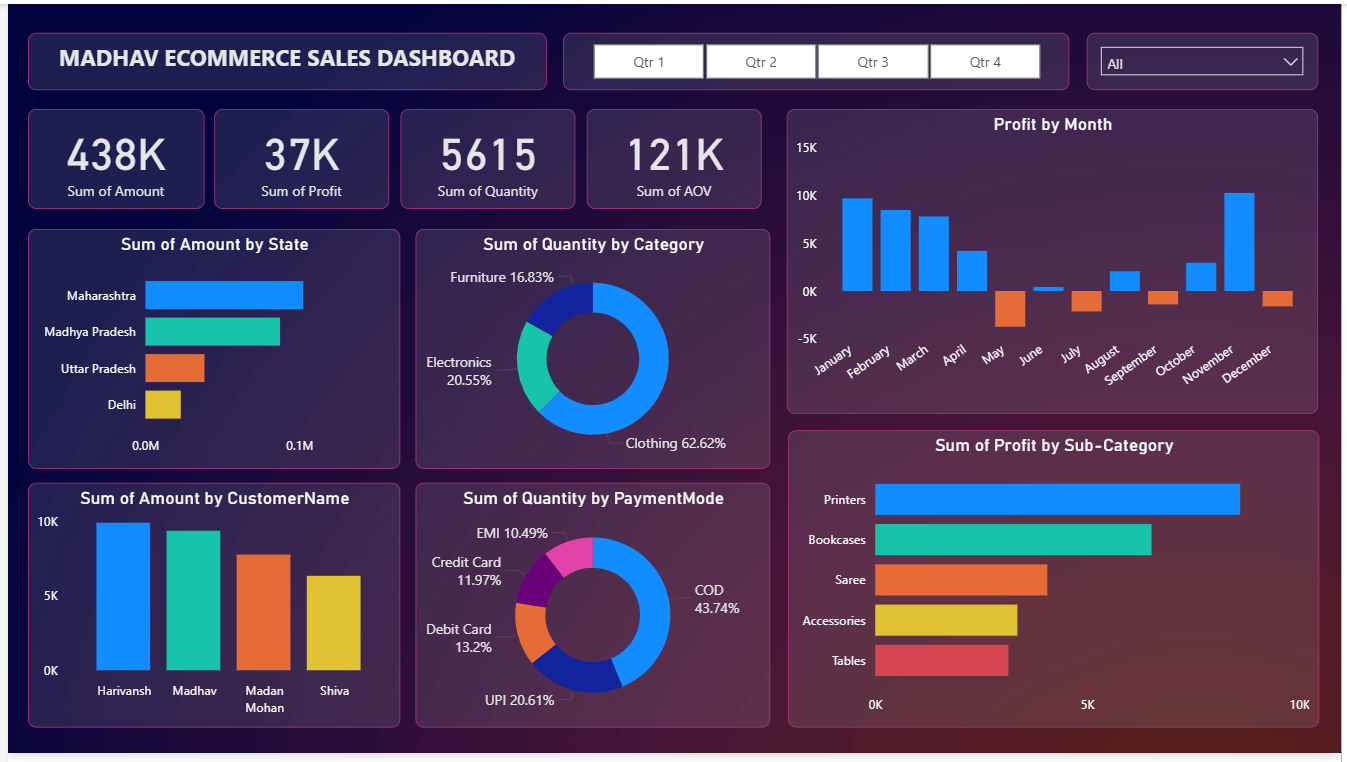

This screenshot's page, from the dashboard's own definition file:
{"tool":"powerbi","page":{"name":"Page 1","canvas":[1280,720],"ordinal":0},"visuals":[{"type":"textbox","box":[19.2,27.6,498.3,55.2],"z":0},{"type":"columnChart","title":"Profit by Month","fields":{"Y":["Sum(Details.Profit)"],"Category":["Orders.Order Date.Variation.Date Hierarchy.Month"]},"box":[748.1,100.9,510.3,293],"z":1000},{"type":"barChart","fields":{"Category":["Details.Sub-Category"],"Y":["Sum(Details.Profit)"]},"box":[749.3,409.5,510.3,285.8],"z":2000},{"type":"donutChart","fields":{"Category":["Details.Category"],"Y":["Sum(Details.Quantity)"]},"box":[391.4,216.1,341,230.5],"z":3000},{"type":"donutChart","fields":{"Category":["Details.PaymentMode"],"Y":["Sum(Details.Quantity)"]},"box":[391.4,459.9,341,235.3],"z":4000},{"type":"card","fields":{"Values":["Sum(Details.Amount)"]},"box":[19.2,100.9,169.3,96.1],"z":5000},{"type":"card","fields":{"Values":["Sum(Details.Quantity)"]},"box":[377,100.9,168.1,96.1],"z":6000},{"type":"card","fields":{"Values":["Sum(Details.Profit)"]},"box":[198.1,100.9,168.1,96.1],"z":7000},{"type":"card","fields":{"Values":["Sum(Details.AOV)"]},"box":[555.9,100.9,168.1,96.1],"z":8000},{"type":"barChart","fields":{"Category":["Orders.State"],"Y":["Sum(Details.Amount)"]},"box":[19.2,216.1,357.8,230.5],"z":9000},{"type":"columnChart","fields":{"Category":["Orders.CustomerName"],"Y":["Sum(Details.Amount)"]},"box":[19.2,459.9,357.8,235.3],"z":10000},{"type":"slicer","fields":{"Values":["Orders.Order Date.Variation.Date Hierarchy.Quarter"]},"box":[533.1,27.6,486.3,55.2],"z":11000},{"type":"slicer","fields":{"Values":["Orders.State"]},"box":[1036.2,27.6,222.1,55.2],"z":12000}]}

Visuals, with their boxes in screenshot pixels (x1, y1, x2, y2), scaled from the page's 1280x720 canvas onto the 1347x762 screenshot:
textbox: (20, 29, 545, 88)
"Profit by Month" columnChart: (787, 107, 1324, 417)
barChart - Details.Sub-Category x Sum(Details.Profit): (789, 433, 1326, 736)
donutChart - Details.Category x Sum(Details.Quantity): (412, 229, 771, 473)
donutChart - Details.PaymentMode x Sum(Details.Quantity): (412, 487, 771, 736)
card - Sum(Details.Amount): (20, 107, 198, 208)
card - Sum(Details.Quantity): (397, 107, 574, 208)
card - Sum(Details.Profit): (208, 107, 385, 208)
card - Sum(Details.AOV): (585, 107, 762, 208)
barChart - Orders.State x Sum(Details.Amount): (20, 229, 397, 473)
columnChart - Orders.CustomerName x Sum(Details.Amount): (20, 487, 397, 736)
slicer - Orders.Order Date.Variation.Date Hierarchy.Quarter: (561, 29, 1073, 88)
slicer - Orders.State: (1090, 29, 1324, 88)
